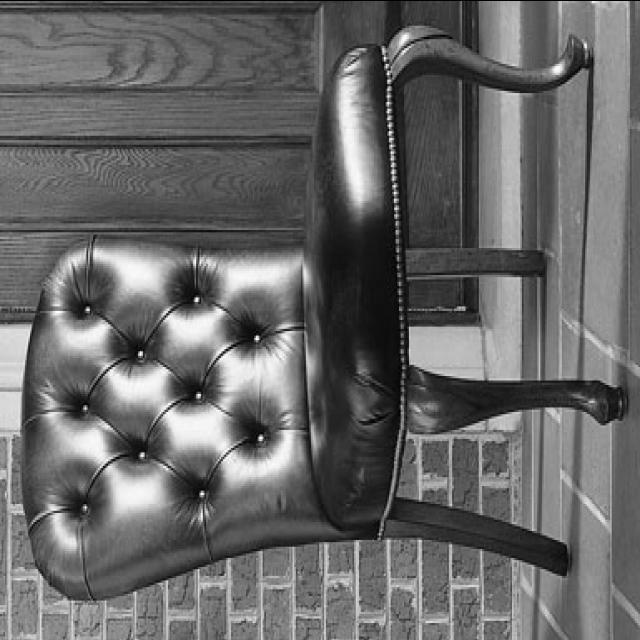chair: (21, 25, 628, 605)
